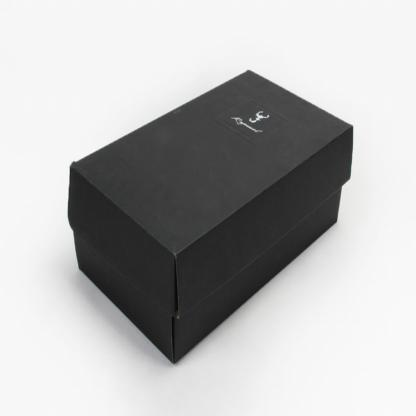box: (69, 72, 354, 368)
